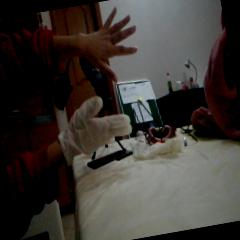gloved: (54, 90, 134, 156)
not-gloved: (65, 4, 146, 90)
